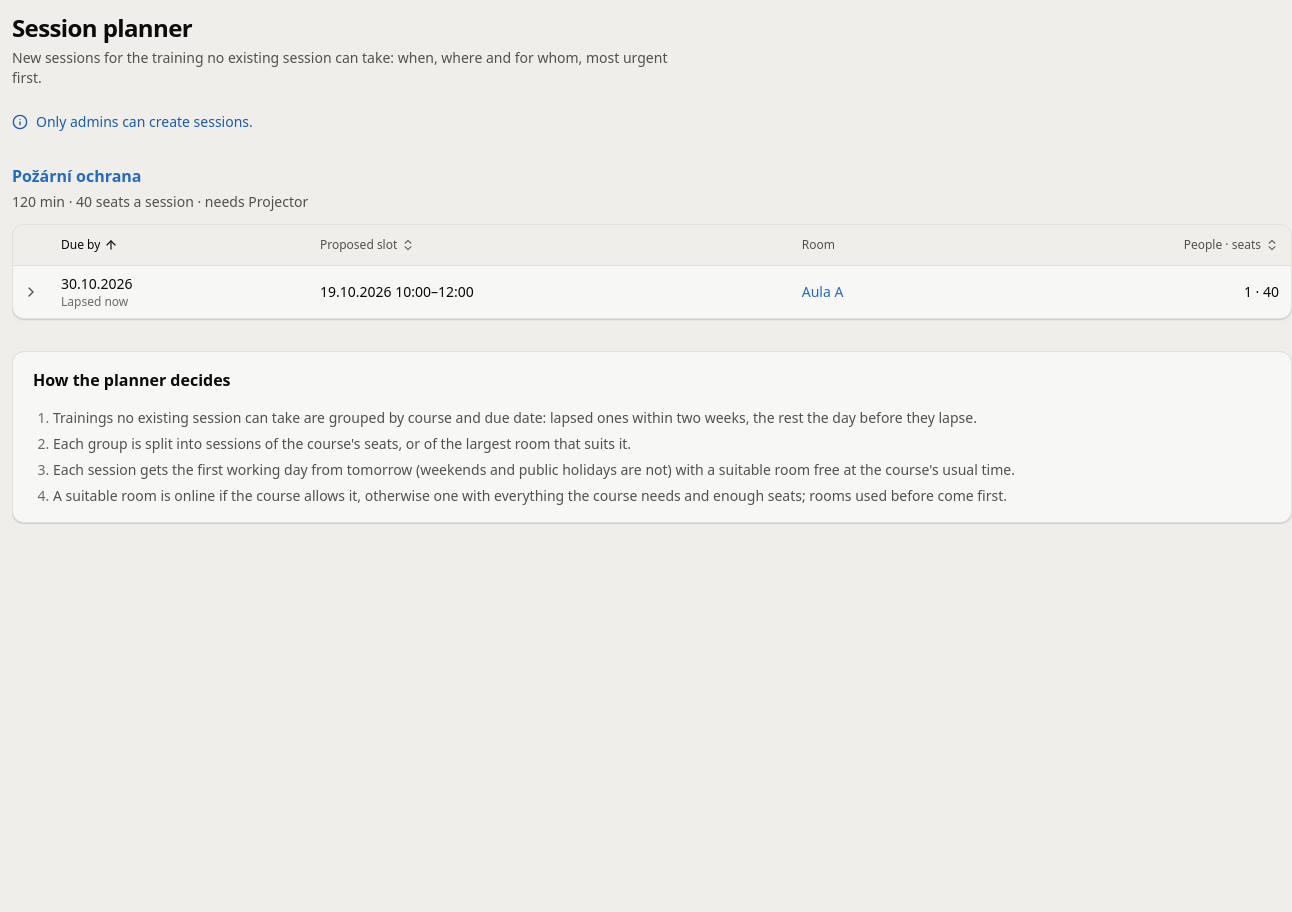
Scenario: session planner › proposes a session per course that needs one, with its slot, room and people
This screenshot has width=1292, height=912.
Expected: the text "Only admins can create sessions." is shown, [36,112,253,132]
Expected: the text "120 min · 40 seats a session · needs Projector" is shown, [12,192,308,212]
Step 1. Click the button named "People for Požární ochrana, session 1" → (31, 292), box [17,278,45,306]
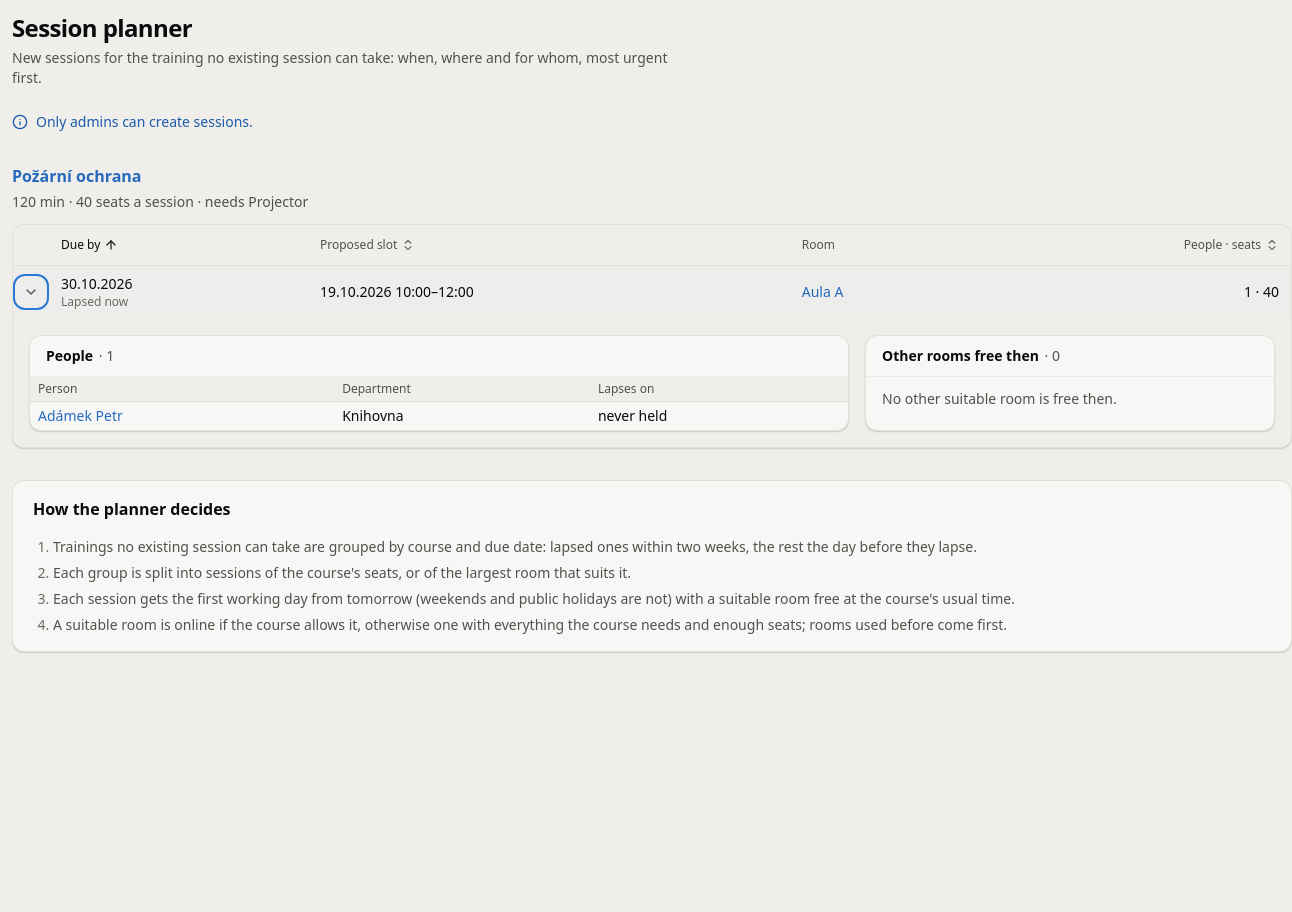
Expected: the heading "Other rooms free then · 0" is shown, [882,346,1060,366]
